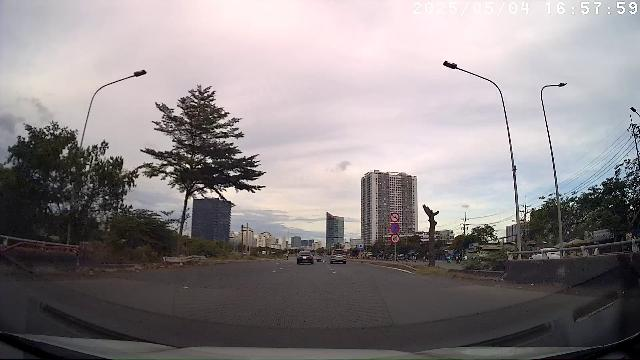127-toc-do-toi-da-60: (390, 233, 400, 244)
130-cam-dung-va-do-xe: (390, 223, 400, 233)
